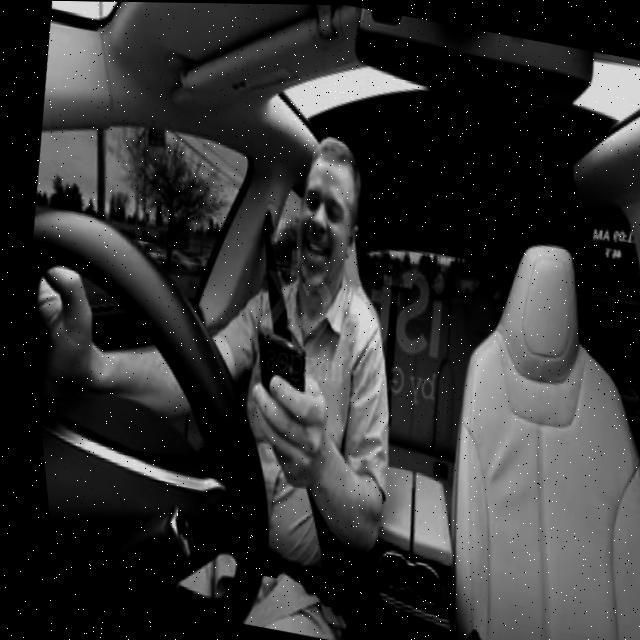PhoneCall: (235, 323, 309, 433)
